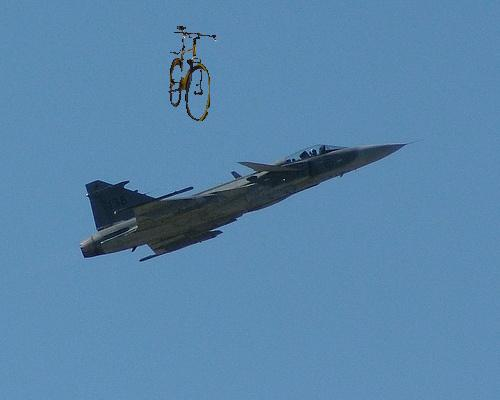tampered: (169, 27, 232, 121)
